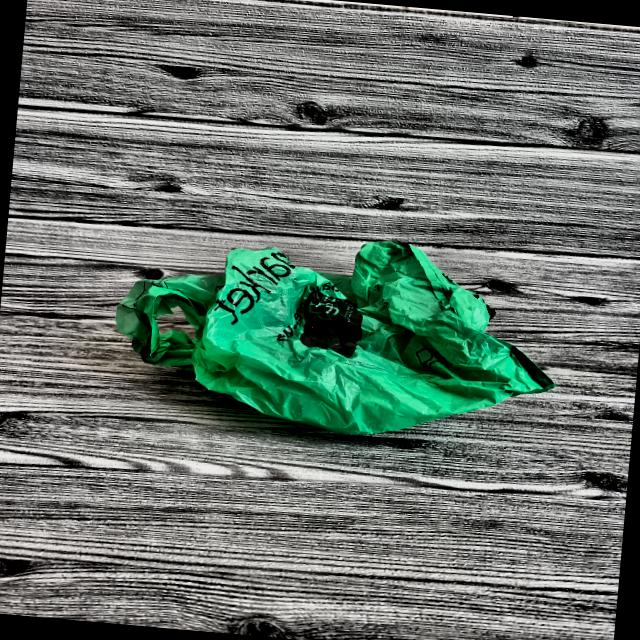plastic bag: (105, 202, 573, 475)
